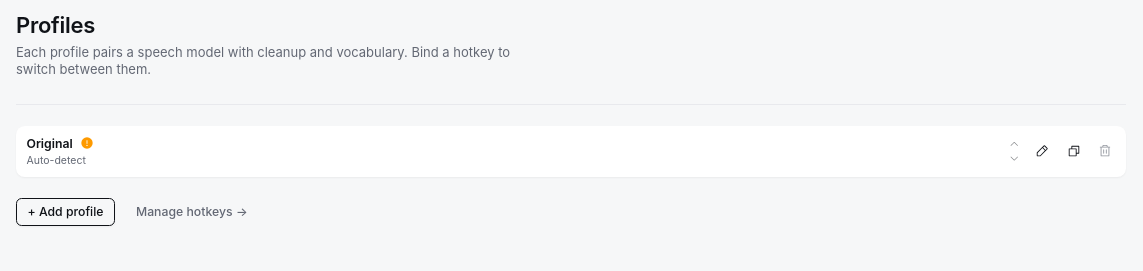
Test: ModesPage – delete › allows deleting the only remaining profile (down to zero)
Click the button named "Delete" at (1105, 151), box [1091, 137, 1119, 165]
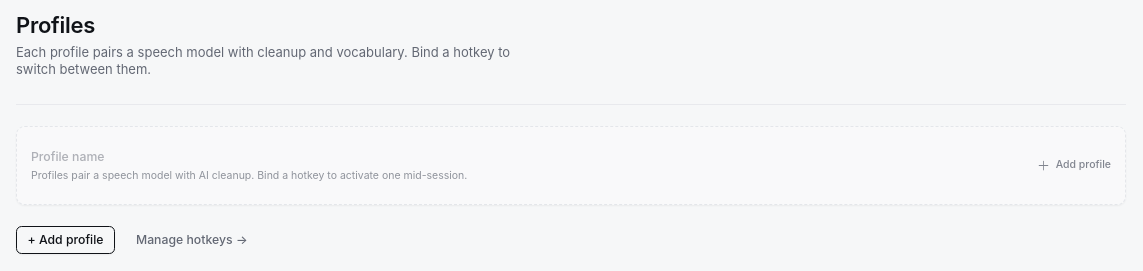
Now the text "Profiles pair a speech model with AI cleanup. Bind a hotkey to activate one mid-session." is shown, box [31, 169, 467, 182]
